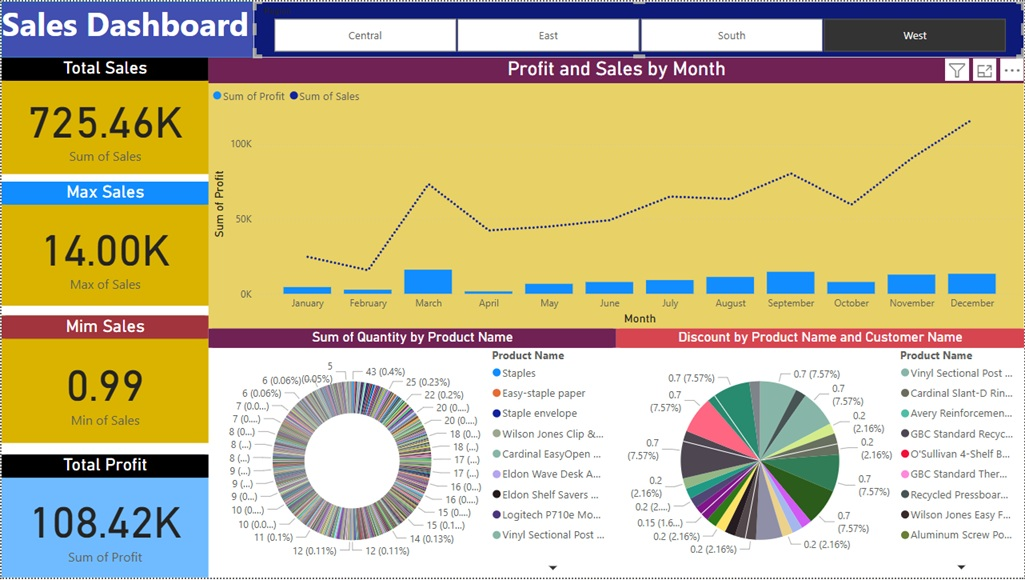

What the dashboard file says about the page in this screenshot:
{"tool":"powerbi","page":{"name":"Page 1","canvas":[1280,720],"ordinal":0},"visuals":[{"type":"shape","box":[0,0,1280.3,70],"z":0},{"type":"card","title":"Total   Sales","fields":{"Values":["Sum(Orders.Sales)"]},"box":[0,70,259.3,145.5],"z":1000},{"type":"card","title":"Max   Sales","fields":{"Values":["Max(Orders.Sales)"]},"box":[0,225,259.3,155.1],"z":2000},{"type":"card","title":"Mim   Sales","fields":{"Values":["Min(Orders.Sales)"]},"box":[0,392.5,259.3,159.2],"z":3000},{"type":"card","title":"Total Profit","fields":{"Values":["Sum(Orders.Profit)"]},"box":[0,566.7,259.3,153.7],"z":4000},{"type":"lineStackedColumnComboChart","title":"Profit and Sales by Month","fields":{"Category":["Orders.Order Date.Variation.Date Hierarchy.Month"],"Y2":["Sum(Orders.Sales)"],"Y":["Sum(Orders.Profit)"]},"box":[259.3,70,1020.9,338.9],"z":5000},{"type":"donutChart","fields":{"Y":["Sum(Orders.Quantity)"],"Category":["Orders.Product Name"]},"box":[259.3,409.3,510.5,311.6],"z":6000},{"type":"pieChart","title":"Discount by Product Name and Customer Name","fields":{"Category":["Orders.Product Name"],"Y":["Sum(Orders.Discount)"],"Series":["Orders.Customer Name"]},"box":[769,409,511,311],"z":7000},{"type":"slicer","fields":{"Values":["Orders.Region"]},"box":[315.1,0,965.1,69.8],"z":8000}]}

Visuals, with their boxes in screenshot pixels (x1, y1, x2, y2), scaled from the page's 1280x720 canvas onto the 1025x580 screenshot:
shape: {"x1": 0, "y1": 0, "x2": 1024, "y2": 56}
"Total   Sales" card: {"x1": 0, "y1": 56, "x2": 208, "y2": 174}
"Max   Sales" card: {"x1": 0, "y1": 181, "x2": 208, "y2": 306}
"Mim   Sales" card: {"x1": 0, "y1": 316, "x2": 208, "y2": 444}
"Total Profit" card: {"x1": 0, "y1": 457, "x2": 208, "y2": 579}
"Profit and Sales by Month" lineStackedColumnComboChart: {"x1": 208, "y1": 56, "x2": 1024, "y2": 329}
donutChart - Sum(Orders.Quantity) x Orders.Product Name: {"x1": 208, "y1": 330, "x2": 616, "y2": 579}
"Discount by Product Name and Customer Name" pieChart: {"x1": 616, "y1": 329, "x2": 1024, "y2": 579}
slicer - Orders.Region: {"x1": 252, "y1": 0, "x2": 1024, "y2": 56}
